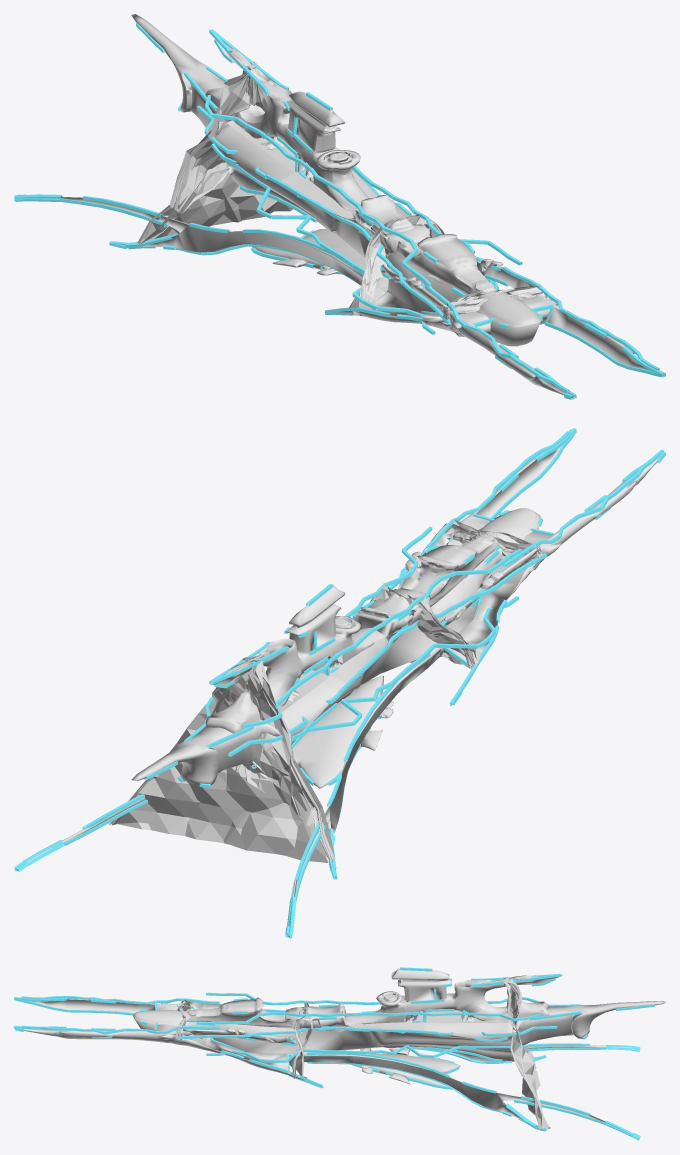
File: cruiser_frag_C.glb
3 renders of one model, top to bottom at view 1: azimuth 30°, elevation 25°; view 2: azimuth 150°, elevation 25°; view 3: azimuth 270°, elevation 25°, orthographic. The views are drawn at different scales.
Parts seen in each view (by area): view 1: FRAG2_XZ_Cruiser, FRAG2_XZ_Trim, FRAG1_XZ_Cruiser, FRAG3_XZ_Trim, FRAG0_XZ_Cruiser, FRAG1_XZ_Trim, FRAG3_XZ_Cruiser, FRAG0_XZ_Trim; view 2: FRAG2_XZ_Cruiser, FRAG2_XZ_Trim, FRAG3_XZ_Trim, FRAG1_XZ_Cruiser, FRAG3_XZ_Cruiser, FRAG0_XZ_Cruiser, FRAG1_XZ_Trim, FRAG0_XZ_Trim; view 3: FRAG2_XZ_Cruiser, FRAG2_XZ_Trim, FRAG1_XZ_Cruiser, FRAG3_XZ_Cruiser, FRAG0_XZ_Cruiser, FRAG3_XZ_Trim, FRAG1_XZ_Trim, FRAG0_XZ_Trim.
Part boxes in pixels (<box>): FRAG2_XZ_Cruiser: <box>142,64,431,316</box>; FRAG2_XZ_Trim: <box>136,61,444,315</box>; FRAG1_XZ_Cruiser: <box>352,225,540,331</box>; FRAG3_XZ_Trim: <box>14,21,278,249</box>; FRAG0_XZ_Cruiser: <box>444,292,663,397</box>; FRAG1_XZ_Trim: <box>349,213,547,334</box>; FRAG3_XZ_Cruiser: <box>60,14,267,219</box>; FRAG0_XZ_Trim: <box>443,286,665,399</box>; FRAG2_XZ_Cruiser: <box>211,584,476,835</box>; FRAG2_XZ_Trim: <box>118,584,481,863</box>; FRAG3_XZ_Trim: <box>14,657,337,938</box>; FRAG1_XZ_Cruiser: <box>392,523,541,669</box>; FRAG3_XZ_Cruiser: <box>15,660,335,937</box>; FRAG0_XZ_Cruiser: <box>453,445,658,569</box>; FRAG1_XZ_Trim: <box>352,519,543,668</box>; FRAG0_XZ_Trim: <box>450,428,665,561</box>; FRAG2_XZ_Cruiser: <box>296,968,535,1126</box>; FRAG2_XZ_Trim: <box>295,967,542,1130</box>; FRAG1_XZ_Cruiser: <box>174,997,313,1077</box>; FRAG3_XZ_Cruiser: <box>504,975,665,1122</box>; FRAG0_XZ_Cruiser: <box>23,998,185,1043</box>; FRAG3_XZ_Trim: <box>502,973,654,1140</box>; FRAG1_XZ_Trim: <box>175,992,312,1078</box>; FRAG0_XZ_Trim: <box>14,996,185,1039</box>.
Size of the model in its own units: 7.24 by 4.75 by 21.91.
